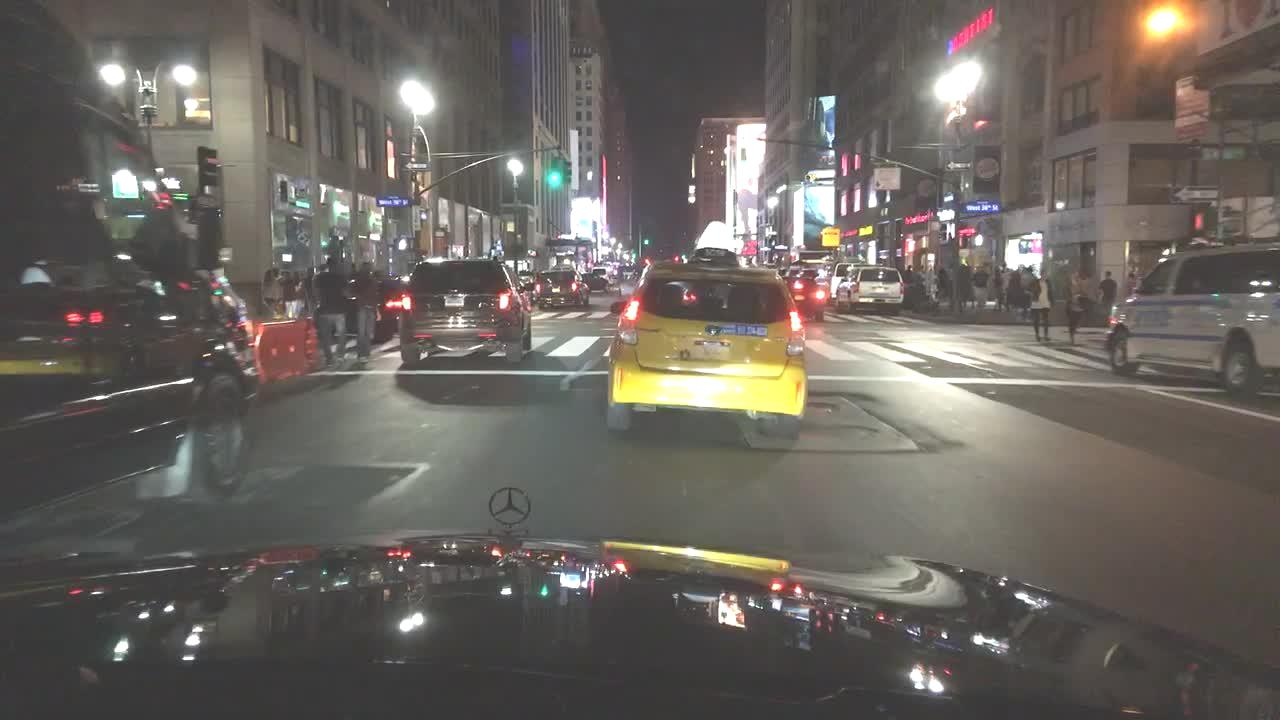Mercedes: (480, 483, 544, 531)
